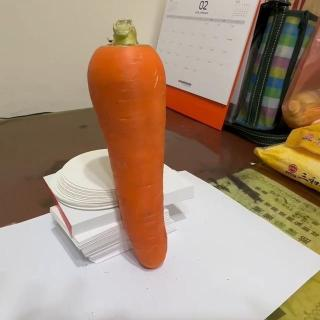carrot: (86, 20, 172, 270)
